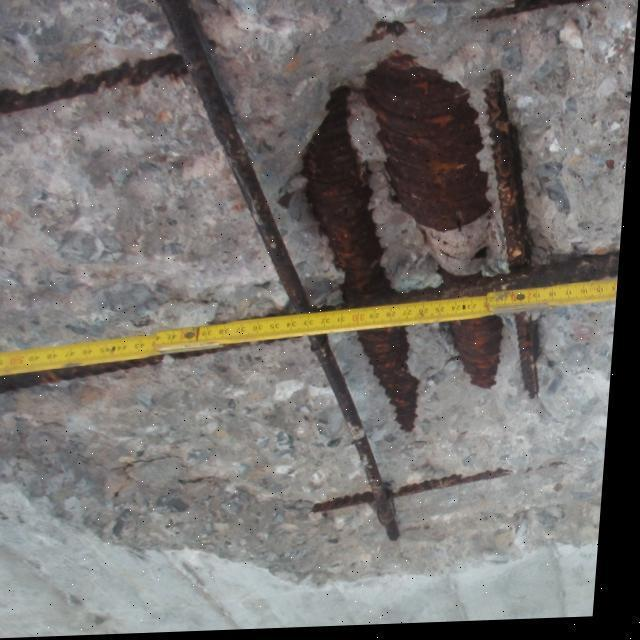D0w0: (0, 322, 597, 592)
